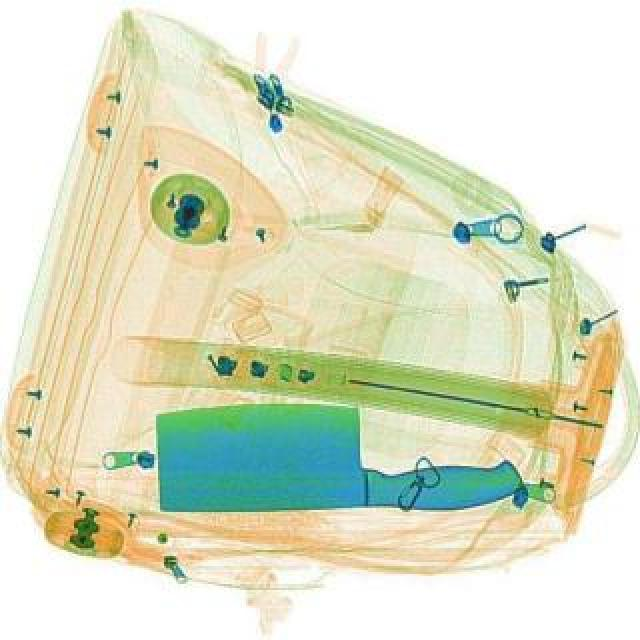knife: (150, 400, 522, 508)
